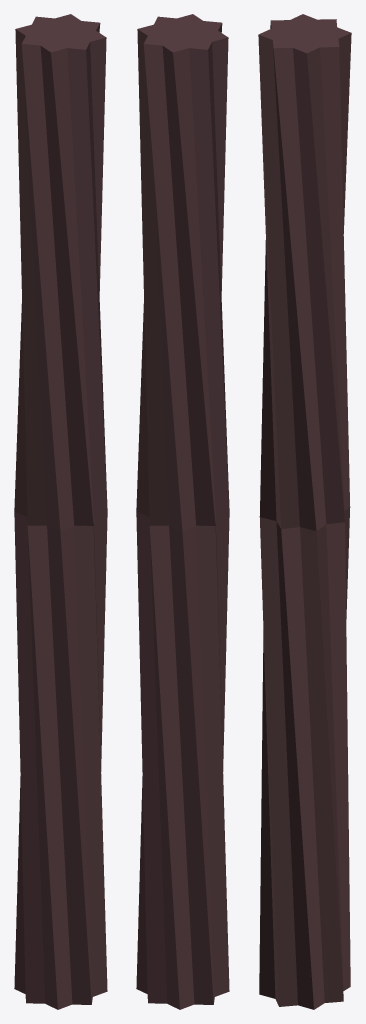
The model's file is Licorice.fbx.
3 renders of one model, left to right at view 1: azimuth 30°, elevation 25°; view 2: azimuth 210°, elevation 25°; view 3: azimuth 270°, elevation 25°, orthographic.
Visible parts, largest first — view 1: Cylinder.002; view 2: Cylinder.002; view 3: Cylinder.002.
Part boxes in pixels (bbox=[...]): Cylinder.002: bbox=[14, 14, 107, 1009]; Cylinder.002: bbox=[136, 14, 229, 1009]; Cylinder.002: bbox=[258, 14, 351, 1009].
Bounding box in the file's own units: 50.57 × 50.57 × 573.
